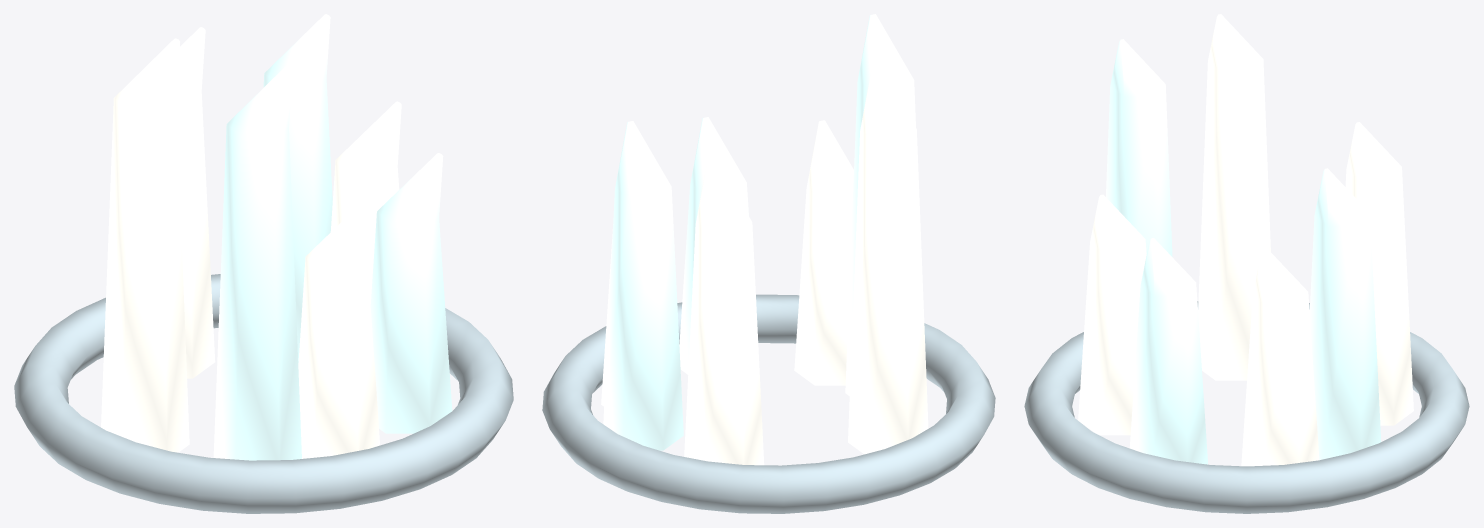
The model's file is sky_skyglass.glb.
3 renders of one model, left to right at view 1: azimuth 30°, elevation 25°; view 2: azimuth 150°, elevation 25°; view 3: azimuth 270°, elevation 25°, orthographic. The views are drawn at different scales.
Parts seen in each view (by area): view 1: sky_skyglass_surface; view 2: sky_skyglass_surface; view 3: sky_skyglass_surface.
Part boxes in pixels (bbox=[...]): sky_skyglass_surface: bbox=[14, 14, 513, 513]; sky_skyglass_surface: bbox=[542, 14, 995, 513]; sky_skyglass_surface: bbox=[1024, 14, 1469, 513].
Size of the model in its own units: 2.24 by 2.03 by 2.24.
